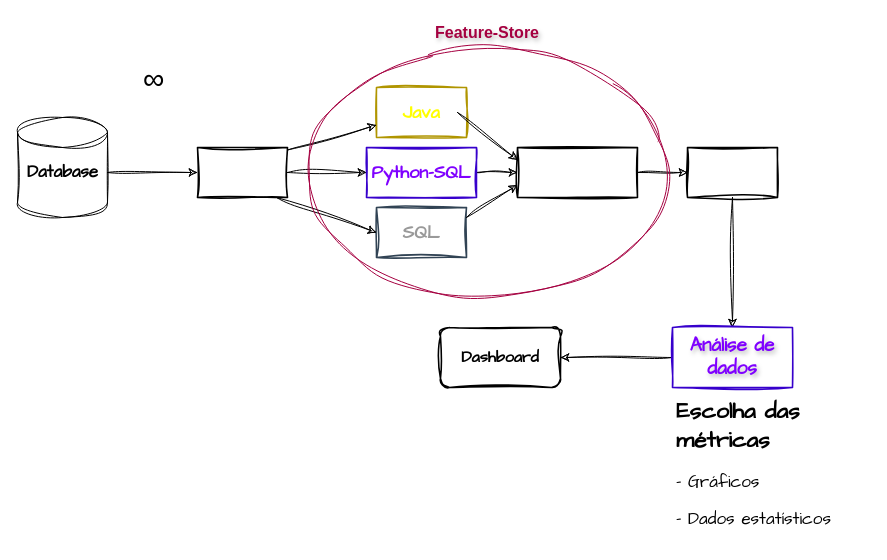
Image size: 887x560. Some labels were removed from this diagram. Here are the shapes that lost their labels. From the top down, the centre of each, then its label:
point (242, 172): Acesso
point (577, 172): Tratamento
point (732, 172): csv ou db
